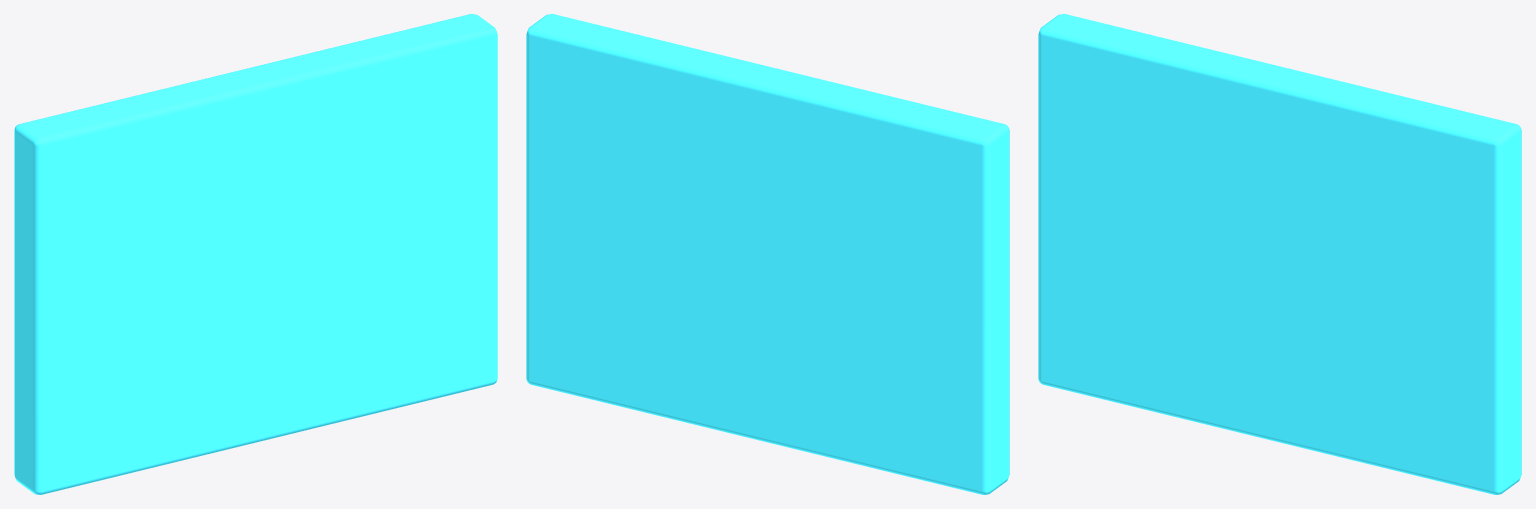
File: matrix-cell.glb
The picture shows the model from 3 angles, left to right: view 1: azimuth 30°, elevation 25°; view 2: azimuth 150°, elevation 25°; view 3: azimuth 330°, elevation 25°; orthographic projection.
Visible parts, largest first — view 1: cell; view 2: cell; view 3: cell.
Boxes of the visible parts, <box> form: cell: <box>14,14,497,494</box>; cell: <box>526,14,1009,494</box>; cell: <box>1038,14,1521,494</box>.
Bounding box in the file's own units: 0.38 × 0.28 × 0.035.
